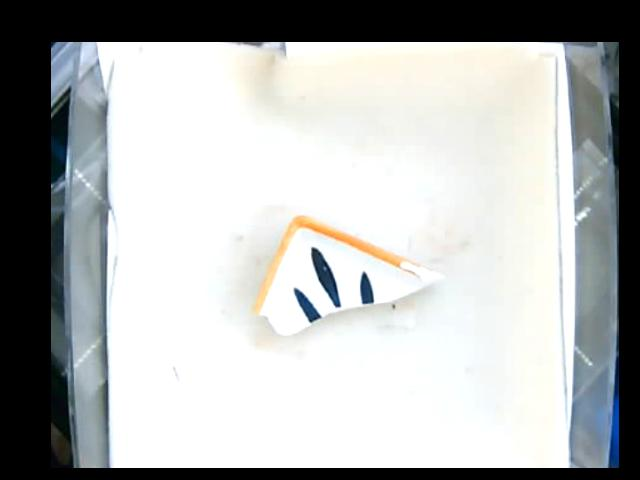China: (254, 215, 443, 334)
